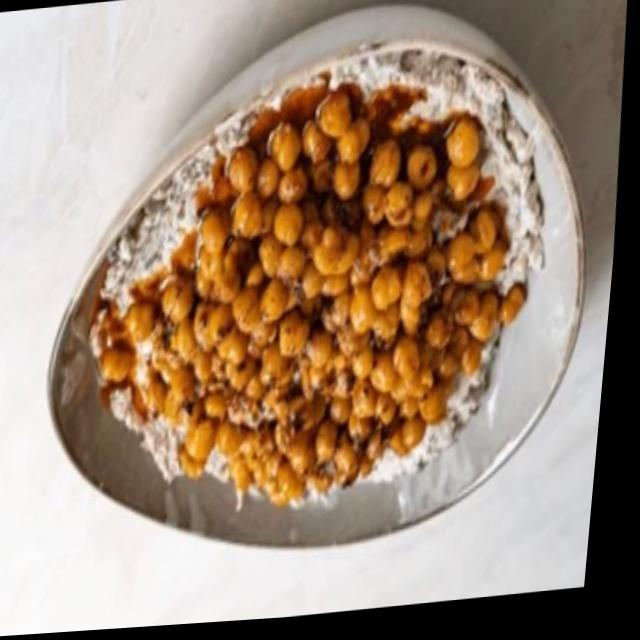SUNDAL: (99, 44, 541, 519)
